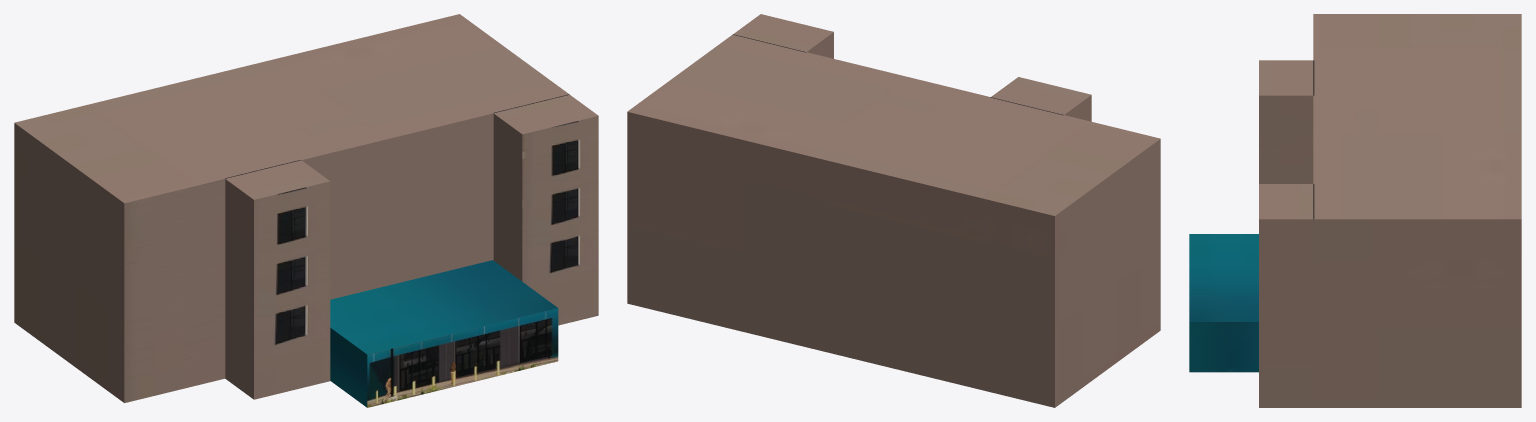
File: zamoan.fbx
3 renders of one model, left to right at view 1: azimuth 30°, elevation 25°; view 2: azimuth 150°, elevation 25°; view 3: azimuth 270°, elevation 25°, orthographic. The views are drawn at different scales.
Visible parts, largest first — view 1: Cube; view 2: Cube; view 3: Cube.
Part boxes in pixels (x1=…): Cube: x1=14, y1=14, x2=598, y2=407; Cube: x1=627, y1=14, x2=1160, y2=407; Cube: x1=1189, y1=14, x2=1521, y2=407.
Size of the model in its own units: 2393 by 3500 by 1500.
Materials: 1 (1 with a texture image).
